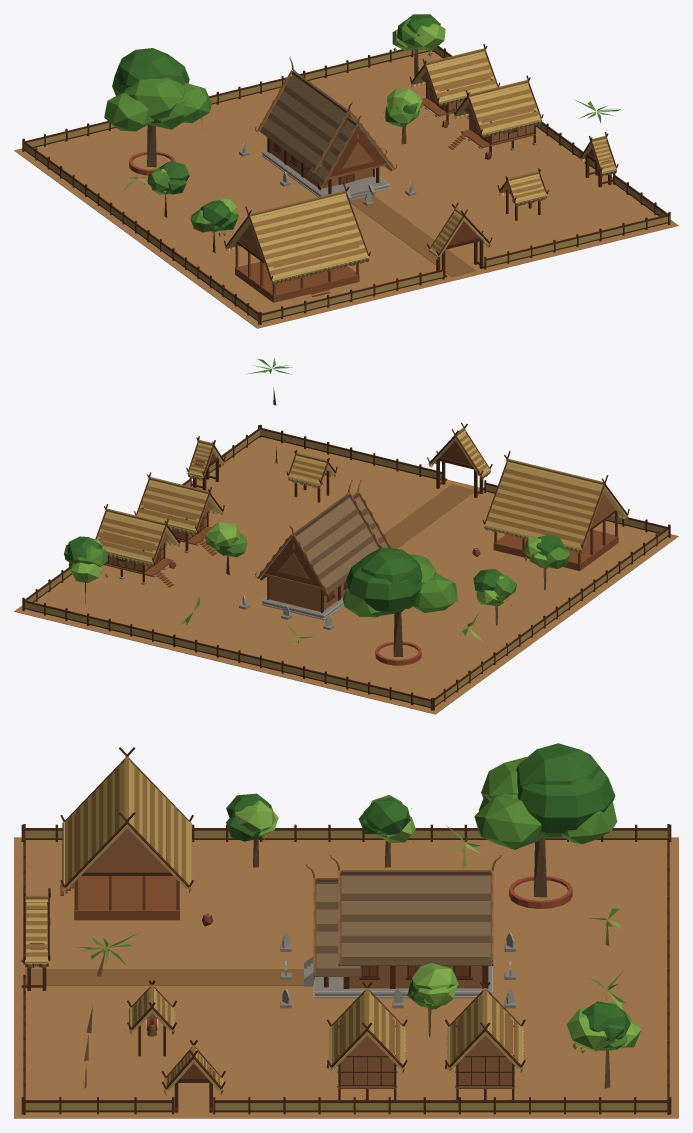
The model's file is temple_1.glb.
The picture shows the model from 3 angles, top to bottom: view 1: azimuth 30°, elevation 25°; view 2: azimuth 150°, elevation 25°; view 3: azimuth 270°, elevation 25°; orthographic projection. The views are drawn at different scales.
Parts seen in each view (by area): view 1: body; view 2: body; view 3: body.
Boxes of the visible parts, x1=… form: body: x1=14, y1=14, x2=678, y2=328; body: x1=14, y1=358, x2=678, y2=714; body: x1=14, y1=743, x2=678, y2=1118.
Bounding box in the file's own units: 47.9 × 11.87 × 47.9.
